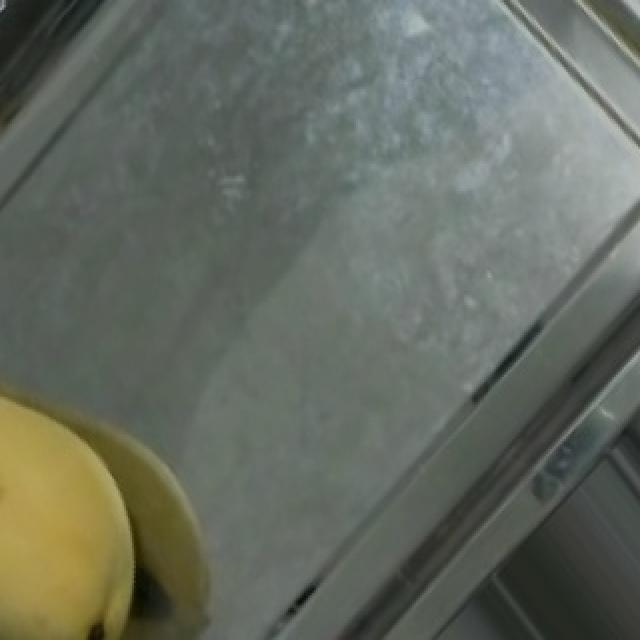fruit: (0, 350, 198, 640)
